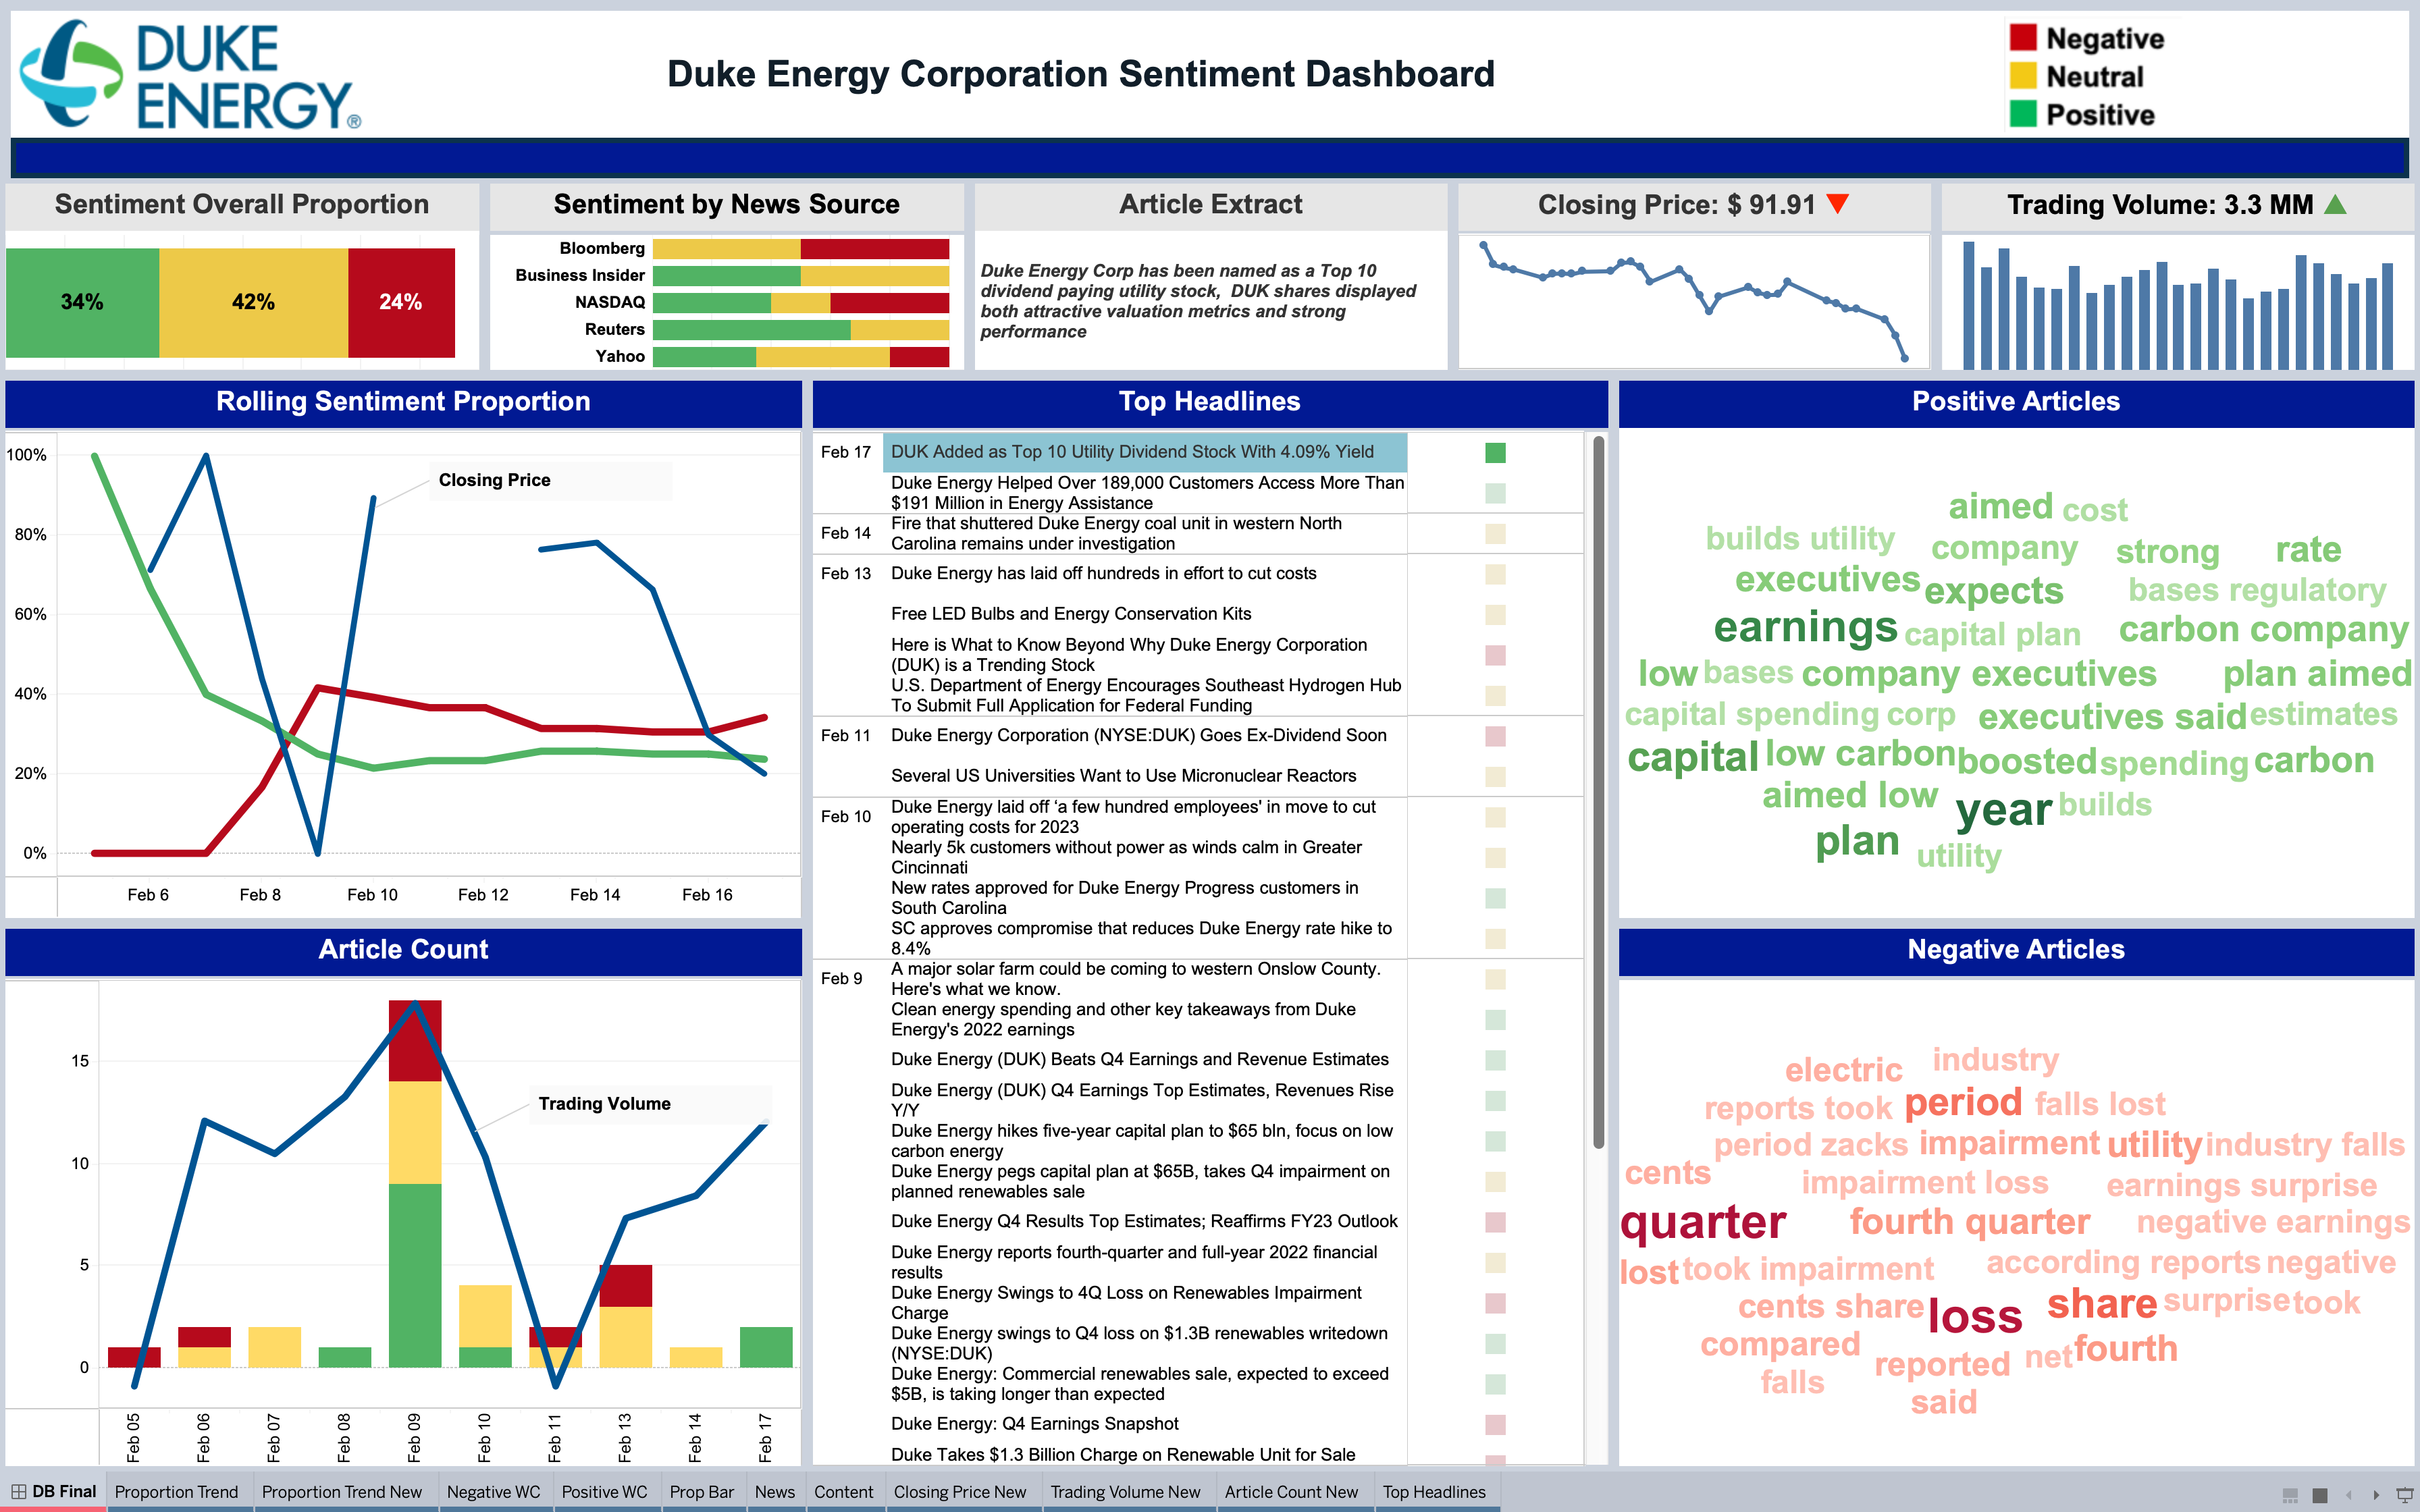

The page's visual inventory and layout, read from the dashboard file:
{"tool":"tableau","page":{"name":"DB Final","canvas":[1000,1000],"units":"permille","ordinal":0},"visuals":[{"type":"image","param":"Image/duke_logo.png","box":[5.1,9.6,175.8,112.4]},{"type":"text","box":[180.9,9.6,651.5,112.4]},{"type":"image","param":"Image/legend.png","box":[832.4,9.6,162.6,112.4]},{"type":"legend","title":"Proportion Trend","param":"[federated.1tfcwhz1ejwq1t15eq6781rletwf].[:Measure Names]","box":[893.7,9.6,101.2,75.4]},{"type":"legend","title":"Negative WC","param":"[federated.19yhdzi1jujwea11j9dnf0j1ma9n].[sum:score:qk]","box":[893.7,84.9,101.2,70.6]},{"type":"text","box":[5.1,122,989.9,35.9]},{"type":"legend","title":"Positive WC","param":"[federated.1sezjkz0ie6yyq144t2e41n0o28g].[sum:score:qk]","box":[893.7,155.5,101.2,70.6]},{"type":"worksheet","title":"Prop Bar","mark":"Automatic","cols":["Sheet1_1EF717A91CF9462488FE3AF3615AEC86"],"box":[0,157.9,200.5,165.1]},{"type":"worksheet","title":"News","mark":"Automatic","rows":["source"],"cols":["Sheet1_1EF717A91CF9462488FE3AF3615AEC86"],"box":[200.5,157.9,199.9,165.1]},{"type":"worksheet","title":"Content","mark":"Automatic","box":[400.4,157.9,199.9,165.1]},{"type":"worksheet","title":"Closing Price","mark":"Automatic","rows":["Close","Close"],"cols":["Date"],"box":[600.2,157.9,199.9,165.1]},{"type":"worksheet","title":"Trading Volume","mark":"Bar","rows":["Volume"],"cols":["Date"],"box":[800.1,157.9,199.9,165.1]},{"type":"worksheet","title":"Proportion Trend","mark":"Automatic","cols":["Date"],"box":[0,323,333.3,338.5]},{"type":"worksheet","title":"Top Headlines","mark":"Automatic","rows":["published_date","title"],"box":[333.3,323,333.3,677]},{"type":"worksheet","title":"Positive WC","mark":"Text","box":[666.7,323,333.3,338.5]},{"type":"worksheet","title":"Article Count","mark":"Bar","rows":["_id"],"cols":["published_date"],"box":[0,661.5,333.3,338.5]},{"type":"worksheet","title":"Negative WC","mark":"Text","box":[666.7,661.5,333.3,338.5]}]}

Visuals, with their boxes on the dashboard's canvas, which has no fixed pixel size, in thousandths of its width and height (x1, y1, x2, y2). These are canvas units, not pixel positions in the 2420x1512 screenshot, which may show the page scaled, cropped or inside an application window:
image: bbox(5, 10, 181, 122)
text: bbox(181, 10, 832, 122)
image: bbox(832, 10, 995, 122)
"Proportion Trend" legend: bbox(894, 10, 995, 85)
"Negative WC" legend: bbox(894, 85, 995, 156)
text: bbox(5, 122, 995, 158)
"Positive WC" legend: bbox(894, 156, 995, 226)
"Prop Bar" worksheet: bbox(0, 158, 200, 323)
"News" worksheet: bbox(200, 158, 400, 323)
"Content" worksheet: bbox(400, 158, 600, 323)
"Closing Price" worksheet: bbox(600, 158, 800, 323)
"Trading Volume" worksheet (Bar marks): bbox(800, 158, 1000, 323)
"Proportion Trend" worksheet: bbox(0, 323, 333, 662)
"Top Headlines" worksheet: bbox(333, 323, 667, 1000)
"Positive WC" worksheet (Text marks): bbox(667, 323, 1000, 662)
"Article Count" worksheet (Bar marks): bbox(0, 662, 333, 1000)
"Negative WC" worksheet (Text marks): bbox(667, 662, 1000, 1000)
